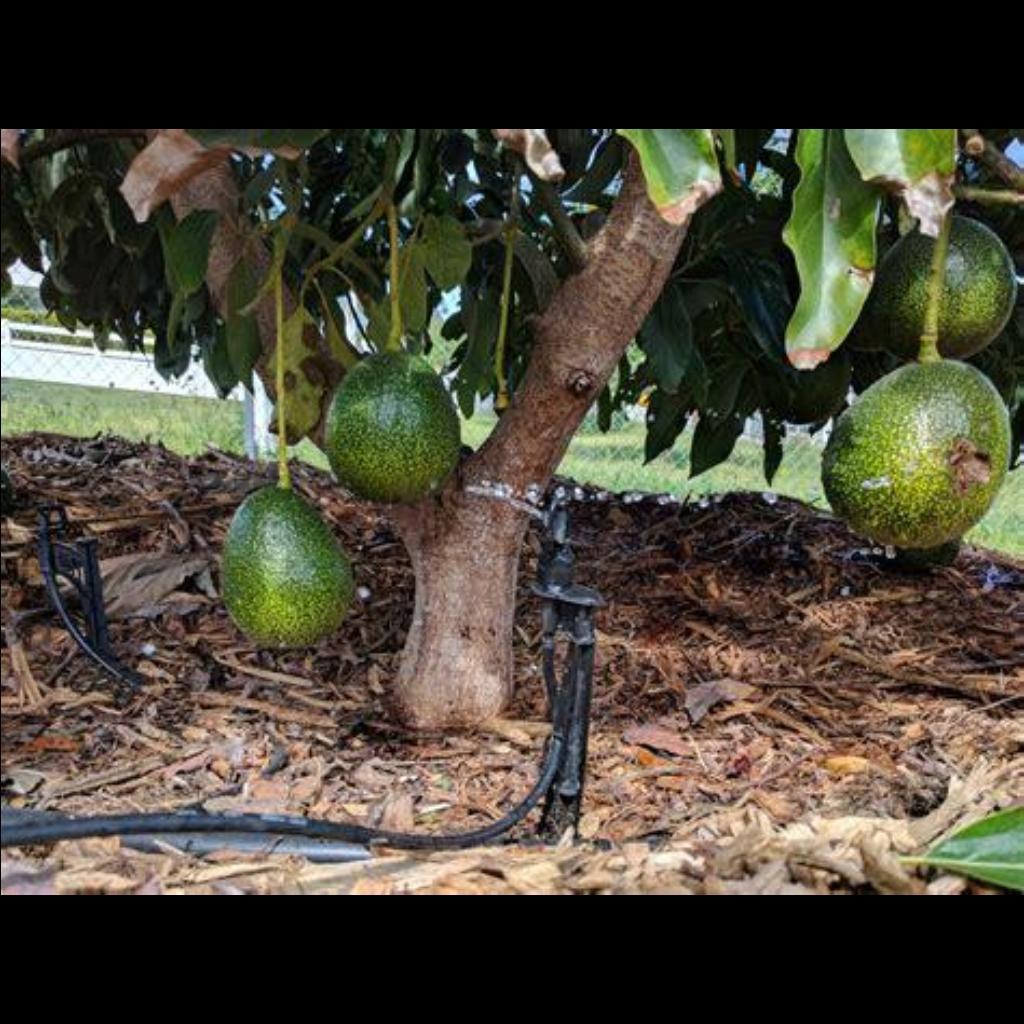antracnosis_fruto: (818, 344, 1020, 549)
